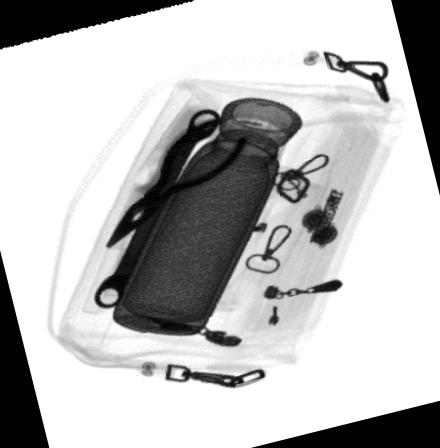Pliers: (106, 116, 251, 248)
Wrench: (93, 107, 222, 311)
